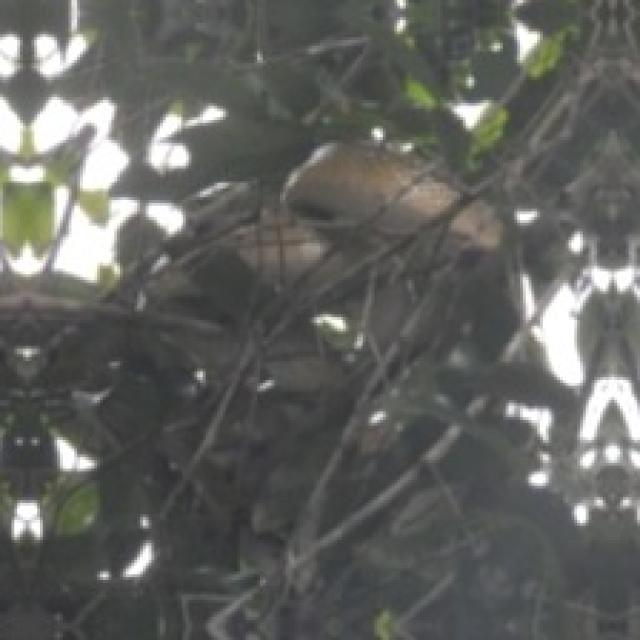red-tailed green ratsnake: (280, 143, 500, 249)
